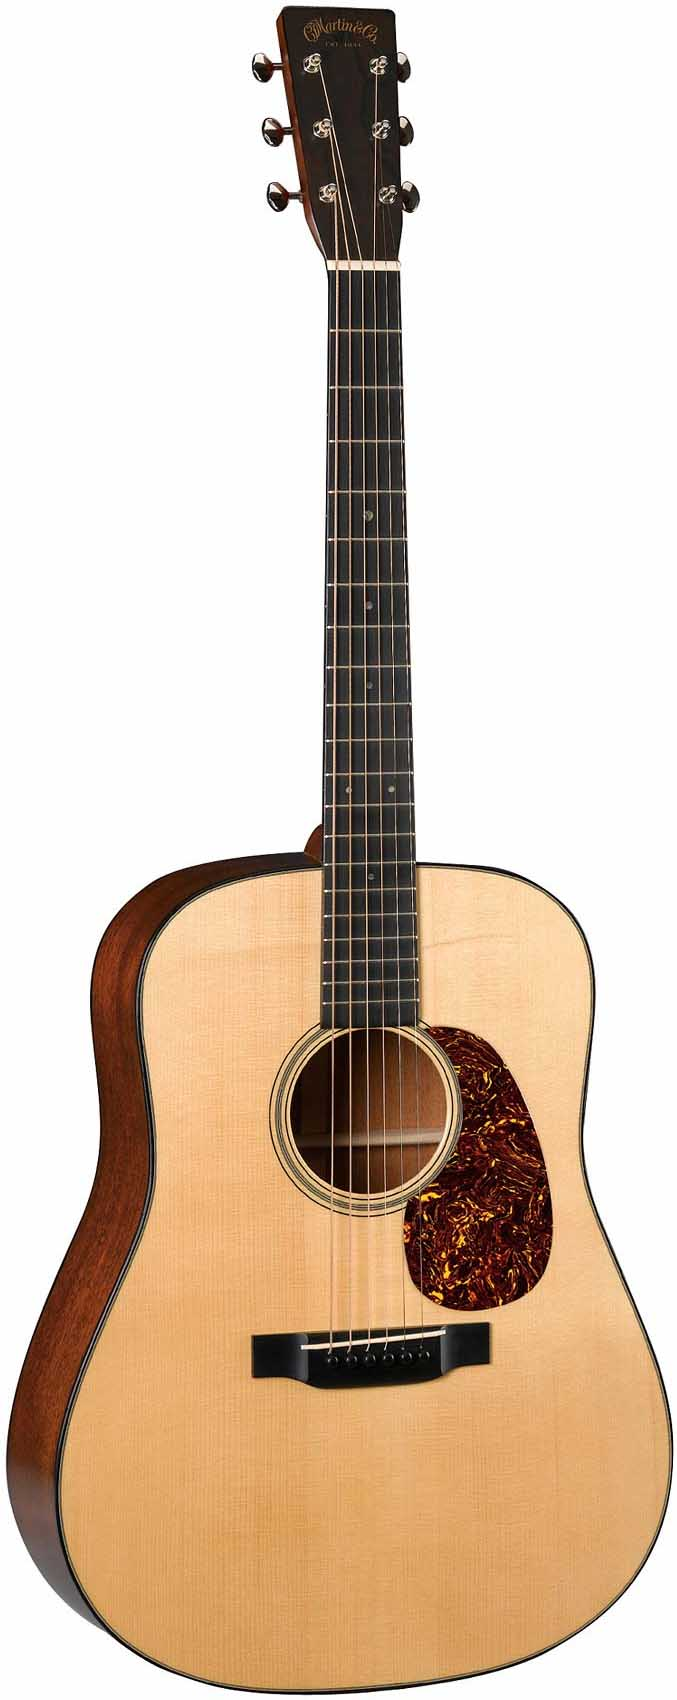guitar: (1, 9, 673, 1695)
